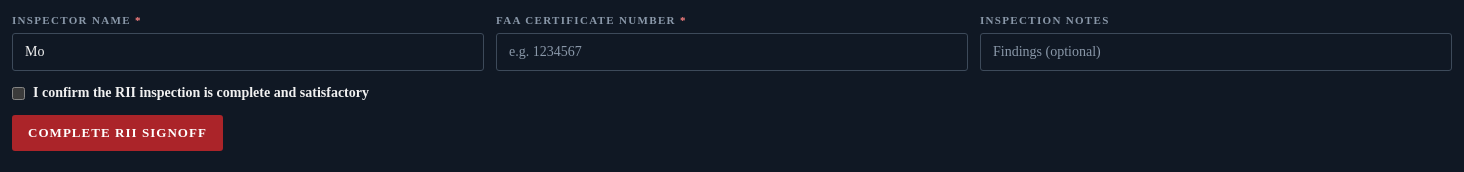
the inspector's sign-off (#172) › carries the same-person refusal back
Type "1" into the field labelled "FAA Certificate Number *" at (732, 52), box left=496, top=33, right=968, bottom=71
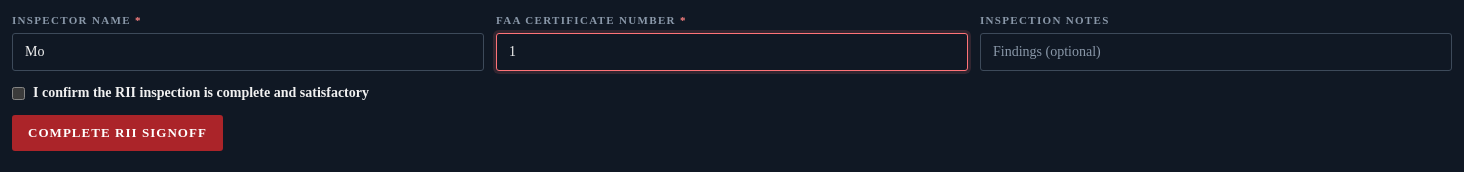
Click the checkbox labelled "I confirm the RII inspection is complete and satisfactory" at (18, 93), box left=12, top=87, right=25, bottom=100
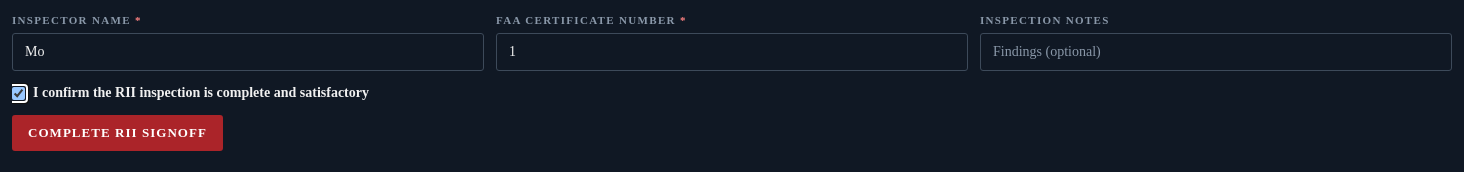
Click the button "Complete RII Signoff" at (118, 133), box left=12, top=115, right=223, bottom=151
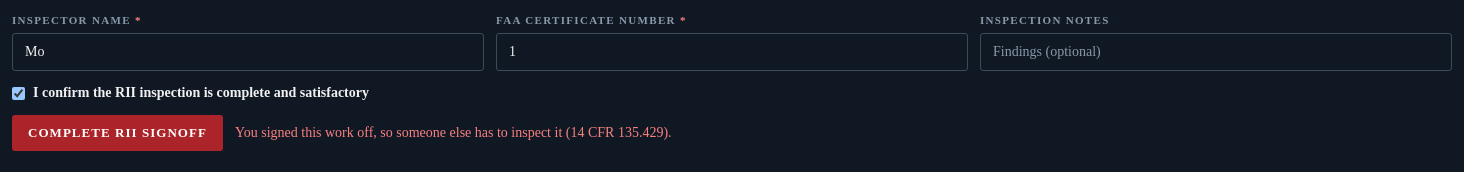
Check: the message shows "someone else has to inspect it", box left=235, top=125, right=672, bottom=140
